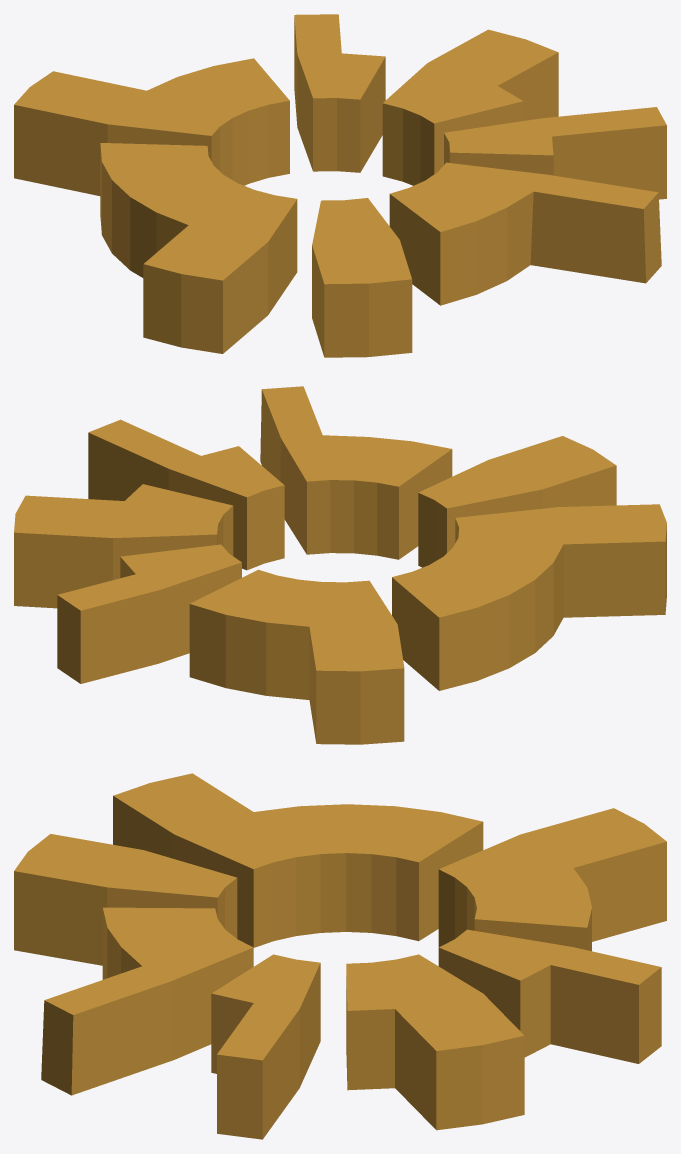
Rendered from ground.fbx.
The picture shows the model from 3 angles, top to bottom: view 1: azimuth 30°, elevation 25°; view 2: azimuth 150°, elevation 25°; view 3: azimuth 270°, elevation 25°; orthographic projection. The views are drawn at different scales.
Visible parts, largest first — view 1: ground, ground.005, ground.001, ground.003, ground.006, ground.004, ground.002; view 2: ground, ground.001, ground.005, ground.003, ground.002, ground.004, ground.006; view 3: ground, ground.005, ground.001, ground.003, ground.002, ground.006, ground.004.
Boxes of the visible parts, x1,y1,x2,y2 form: ground: (100, 143, 297, 353); ground.005: (389, 162, 661, 305); ground.001: (14, 58, 289, 195); ground.003: (382, 29, 558, 185); ground.006: (312, 198, 412, 357); ground.004: (444, 107, 666, 199); ground.002: (294, 14, 385, 172); ground: (392, 504, 666, 690); ground.001: (189, 569, 404, 744); ground.005: (260, 386, 452, 559); ground.003: (14, 484, 233, 608); ground.002: (57, 544, 241, 683); ground.004: (88, 419, 284, 570); ground.006: (418, 436, 616, 567); ground: (113, 773, 483, 947); ground.005: (41, 907, 253, 1095); ground.001: (438, 808, 666, 951); ground.003: (346, 954, 524, 1130); ground.002: (438, 929, 661, 1063); ground.006: (14, 834, 237, 965); ground.004: (211, 954, 320, 1139).
Bounding box in the file's own units: 18491 × 2379 × 17773.
